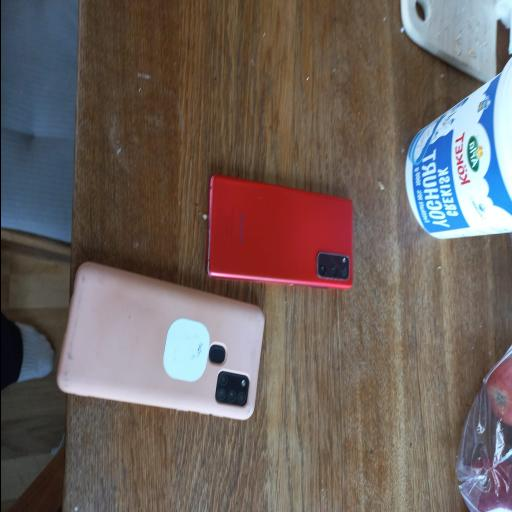phone: (57, 262, 262, 418), (207, 174, 351, 287)
